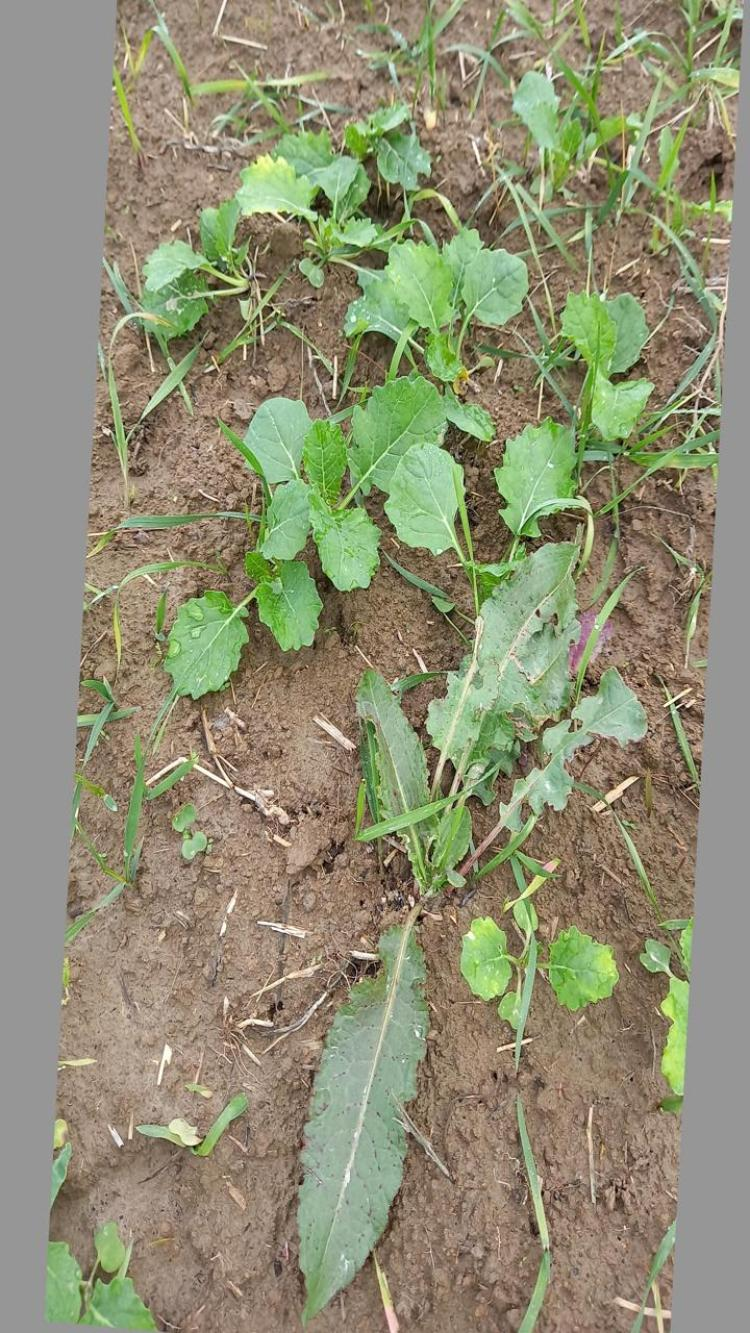zhavel: (290, 527, 652, 1320)
